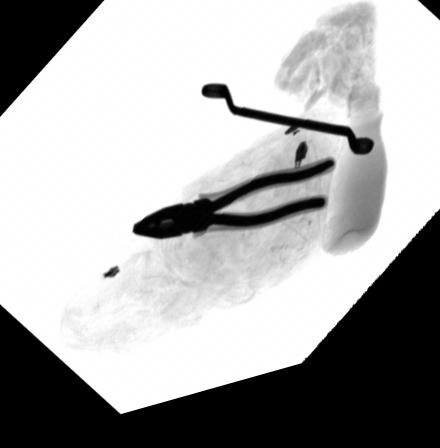Pliers: (129, 172, 337, 249)
Wrench: (198, 95, 375, 174)
